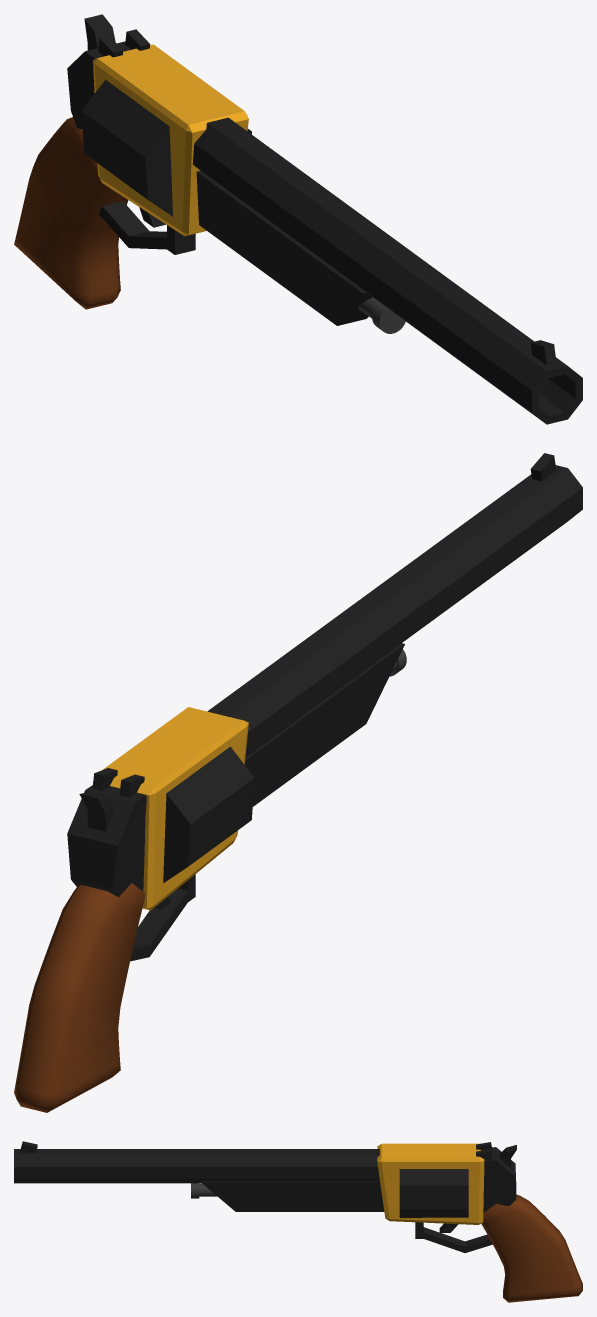
The model's file is FlingueTojha2.fbx.
The picture shows the model from 3 angles, top to bottom: view 1: azimuth 30°, elevation 25°; view 2: azimuth 150°, elevation 25°; view 3: azimuth 270°, elevation 25°; orthographic projection. The views are drawn at different scales.
Visible parts, largest first — view 1: Cylinder, Cube.004, Cube.001, Cube.002, Cylinder.002, Cube.003, Cylinder.003, Cylinder.001; view 2: Cylinder, Cube.004, Cube.001, Cube.002, Cylinder.002, Cylinder.003, Cube.003; view 3: Cylinder, Cube.004, Cube.002, Cube.001, Cylinder.002, Cylinder.003, Cube.003, Cylinder.001.
Boxes of the visible parts, x1,y1,x2,y2 form: Cylinder: (192,117,582,424); Cube.004: (14,117,128,309); Cube.001: (93,44,248,236); Cube.002: (196,170,372,325); Cylinder.002: (81,79,251,216); Cube.003: (84,14,195,254); Cylinder.003: (67,41,130,129); Cylinder.001: (358,297,405,333); Cylinder: (207,465,582,756); Cube.004: (14,883,144,1112); Cube.001: (93,707,248,910); Cube.002: (244,643,404,806); Cylinder.002: (163,746,254,883); Cylinder.003: (67,785,146,897); Cube.003: (79,792,195,961); Cylinder: (14,1149,379,1183); Cube.004: (481,1194,582,1302); Cube.002: (201,1181,384,1211); Cube.001: (377,1143,484,1224); Cylinder.002: (399,1169,468,1217); Cylinder.003: (483,1147,516,1212); Cube.003: (415,1145,516,1252); Cylinder.001: (191,1183,216,1198).
Size of the model in its own units: 395 by 1004 by 3302.
